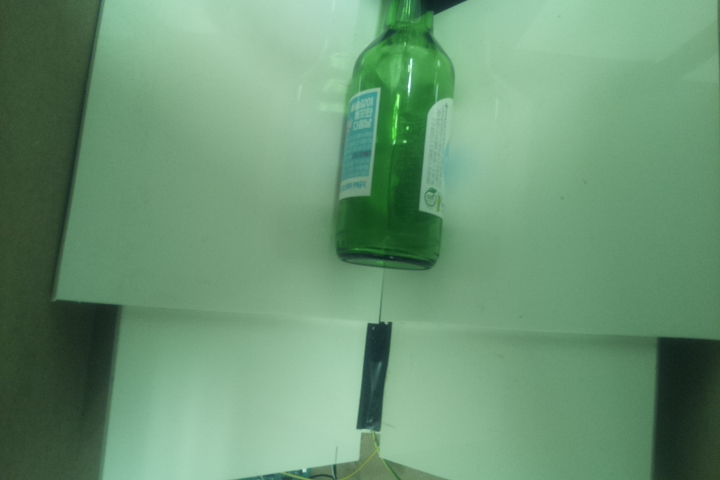soju: (335, 1, 459, 272)
